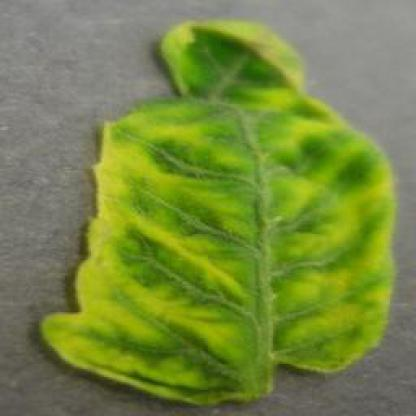good leaf: (71, 5, 393, 414)
